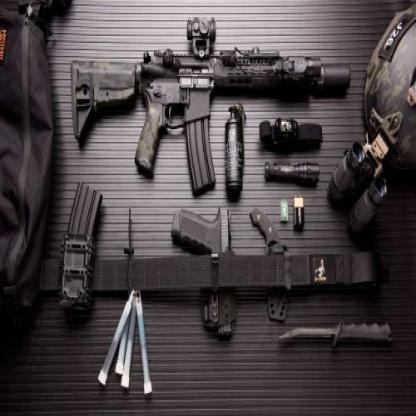Grenade: (223, 101, 246, 201)
Gun: (70, 16, 352, 195)
Pistol: (171, 204, 236, 339)
